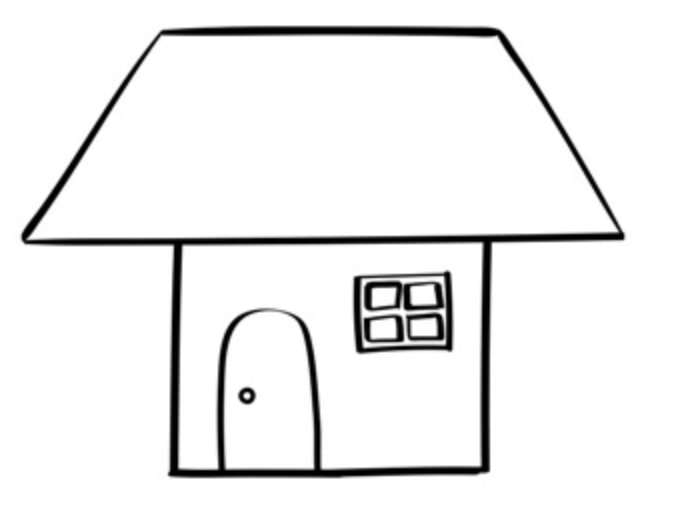House: (15, 16, 642, 482)
